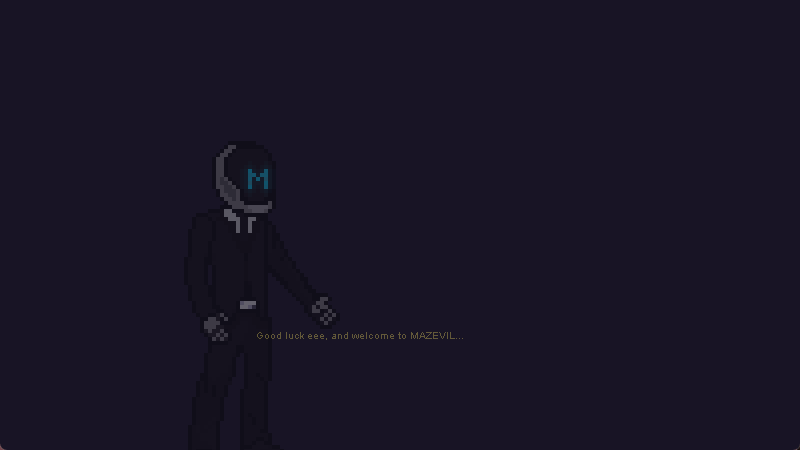next_screen_stop: (1, 1, 800, 450)
